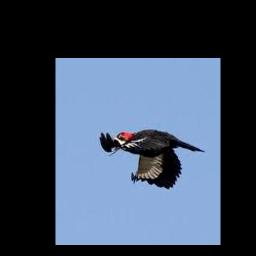Woodpecker: (100, 129, 206, 189)
